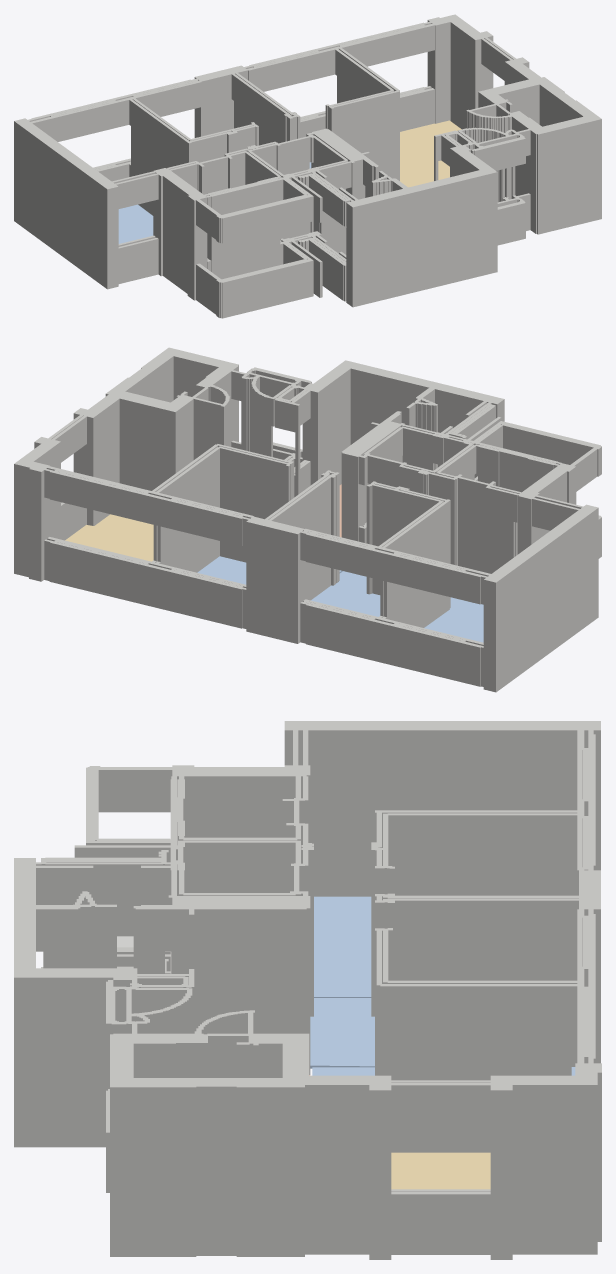
3 views of the same model, one above another, from view 1: azimuth 30°, elevation 25°; view 2: azimuth 150°, elevation 25°; view 3: azimuth 270°, elevation 25° (orthographic). The views are drawn at different scales.
Parts seen in each view (by area): view 1: walls, room:living:3, room:bedroom:0; view 2: walls, room:living:3, room:bedroom:1, room:bedroom:0, room:bedroom:2; view 3: walls, room:bedroom:0, room:bedroom:1, room:living:3.
Part boxes in pixels (x1,y1,x2,y2): walls: [14, 14, 601, 318]; room:living:3: [400, 120, 461, 187]; room:bedroom:0: [118, 204, 153, 243]; walls: [14, 347, 601, 692]; room:living:3: [65, 514, 153, 561]; room:bedroom:1: [311, 571, 380, 616]; room:bedroom:0: [424, 597, 483, 642]; room:bedroom:2: [197, 556, 342, 584]; walls: [14, 721, 601, 1259]; room:bedroom:0: [314, 896, 371, 997]; room:bedroom:1: [310, 998, 374, 1068]; room:living:3: [391, 1152, 490, 1189].
Bounding box in the file's own units: 13.09 × 2.8 × 8.8.
